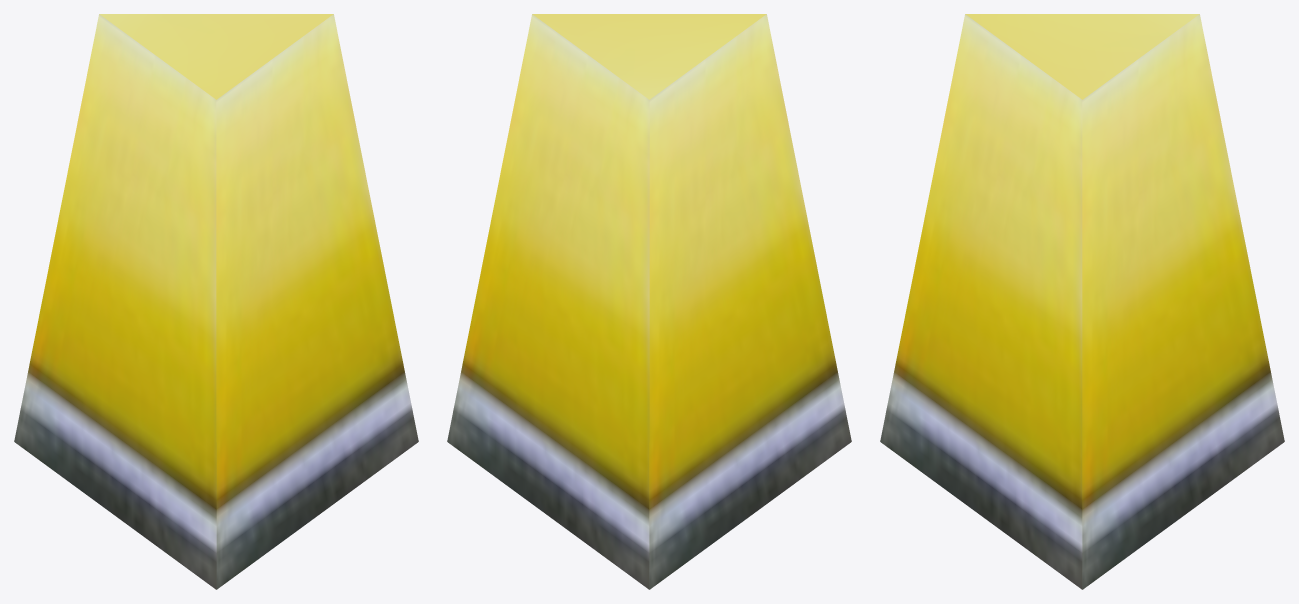
File: runwaylight_hdtex.glb
3 views of the same model, side by side, from view 1: azimuth 30°, elevation 25°; view 2: azimuth 150°, elevation 25°; view 3: azimuth 270°, elevation 25° (orthographic).
Visible parts, largest first — view 1: Redbeaconlight03; view 2: Redbeaconlight03; view 3: Redbeaconlight03.
Boxes of the visible parts, box(x1,y1,x2,y2) form: Redbeaconlight03: box(14, 14, 418, 589); Redbeaconlight03: box(447, 14, 851, 589); Redbeaconlight03: box(880, 14, 1284, 589).
Bounding box in the file's own units: 0.4029 × 0.569 × 0.4653.
1 material, 1 textured.
